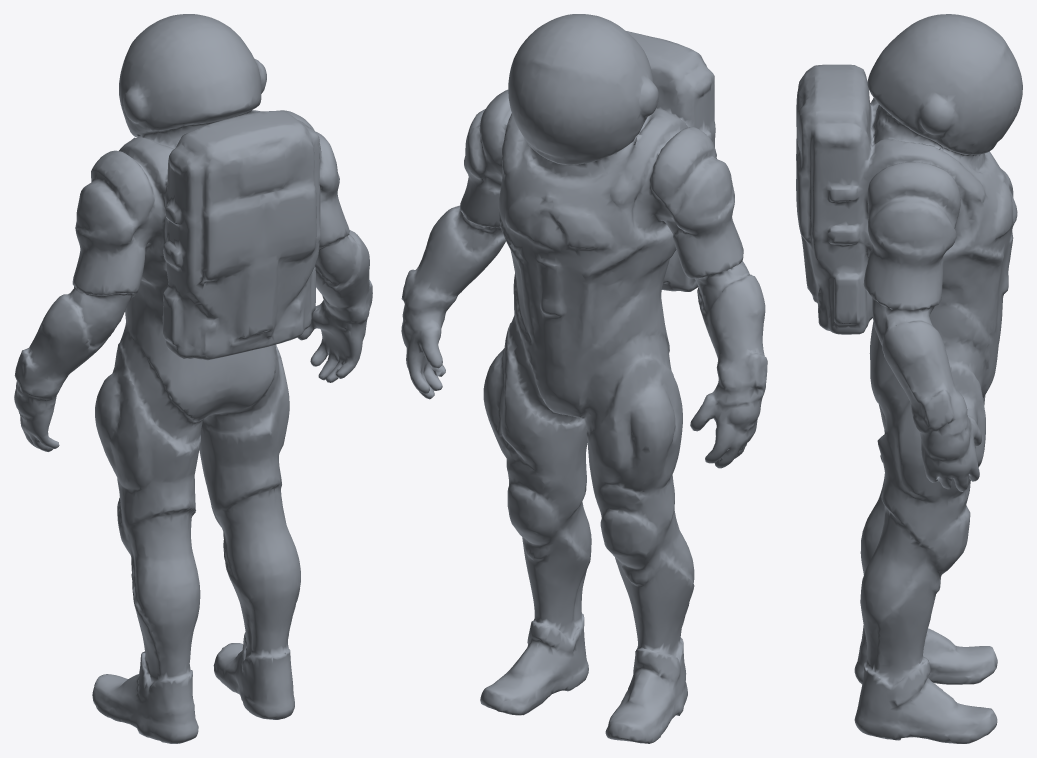
Rendered from astronaut.glb.
3 renders of one model, left to right at view 1: azimuth 30°, elevation 25°; view 2: azimuth 150°, elevation 25°; view 3: azimuth 270°, elevation 25°, orthographic. The views are drawn at different scales.
Parts seen in each view (by area): view 1: Torso, ArmL, ShinL, ThighL, ThighR, ShinR, ArmR; view 2: Torso, ArmL, ArmR, ShinR, ShinL, ThighL, ThighR; view 3: Torso, ArmR, ShinR, ThighR, ShinL, ThighL.
Part boxes in pixels (left/top/right/bottom): Torso: left=95, top=14, right=320, bottom=439; ArmL: left=14, top=150, right=153, bottom=451; ShinL: left=92, top=562, right=200, bottom=743; ThighL: left=95, top=417, right=202, bottom=581; ThighR: left=199, top=399, right=293, bottom=556; ShinR: left=213, top=537, right=300, bottom=719; ArmR: left=276, top=110, right=372, bottom=382; Torso: left=483, top=14, right=715, bottom=440; ArmL: left=651, top=127, right=767, bottom=468; ArmR: left=401, top=89, right=510, bottom=399; ShinR: left=480, top=518, right=591, bottom=715; ShinL: left=605, top=542, right=694, bottom=743; ThighL: left=584, top=411, right=686, bottom=565; ThighR: left=483, top=398, right=587, bottom=541; Torso: left=796, top=14, right=1022, bottom=445; ArmR: left=863, top=162, right=981, bottom=491; ShinR: left=854, top=562, right=997, bottom=743; ThighR: left=869, top=426, right=985, bottom=579; ShinL: left=854, top=514, right=997, bottom=684; ThighL: left=868, top=395, right=985, bottom=530.
Size of the model in its own units: 0.9692 by 1.8 by 0.5408.
Materials: 1 (1 with a texture image).
